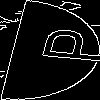P: (25, 25, 100, 65)
